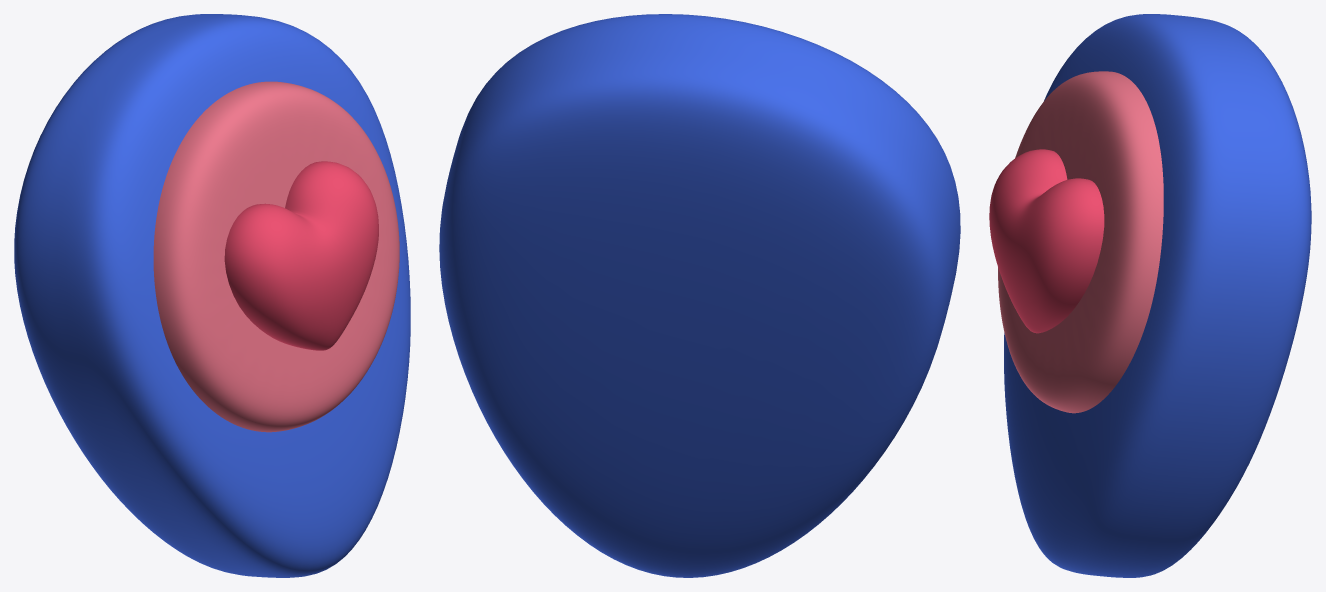
The model's file is location-pin-3d-animated-icon-1542542174395.glb.
3 views of the same model, side by side, from view 1: azimuth 30°, elevation 25°; view 2: azimuth 150°, elevation 25°; view 3: azimuth 270°, elevation 25° (orthographic). The views are drawn at different scales.
Visible parts, largest first — view 1: pin, heart; view 2: pin; view 3: pin, heart.
Part boxes in pixels (<box>): pin: <box>14,14,410,577</box>; heart: <box>224,161,378,350</box>; pin: <box>439,14,960,577</box>; pin: <box>998,14,1311,577</box>; heart: <box>989,149,1104,333</box>.
Size of the model in its own units: 2.2 by 2.75 by 1.56.
